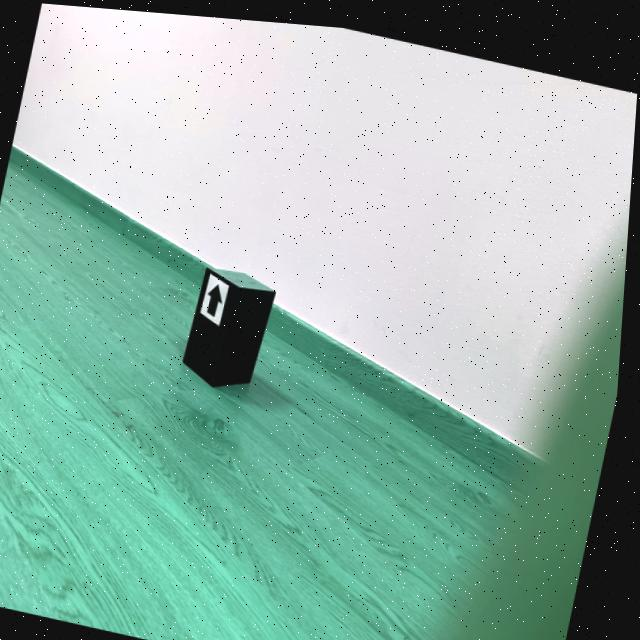UP: (211, 280, 226, 313)
